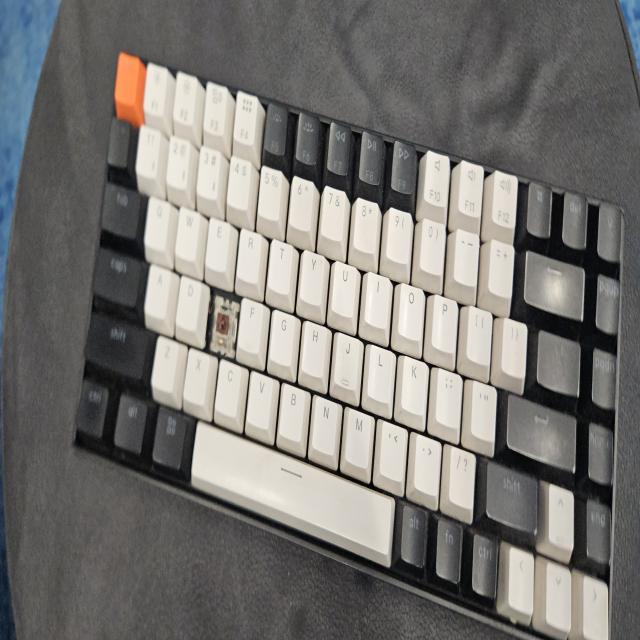C: (214, 301, 232, 351)
